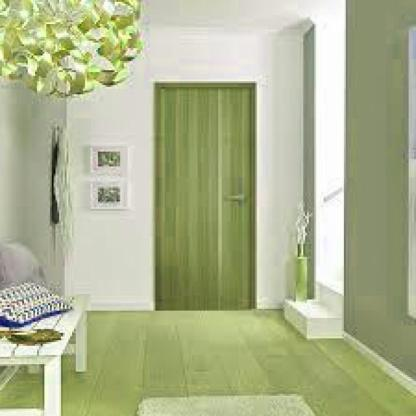door: (148, 70, 270, 316)
